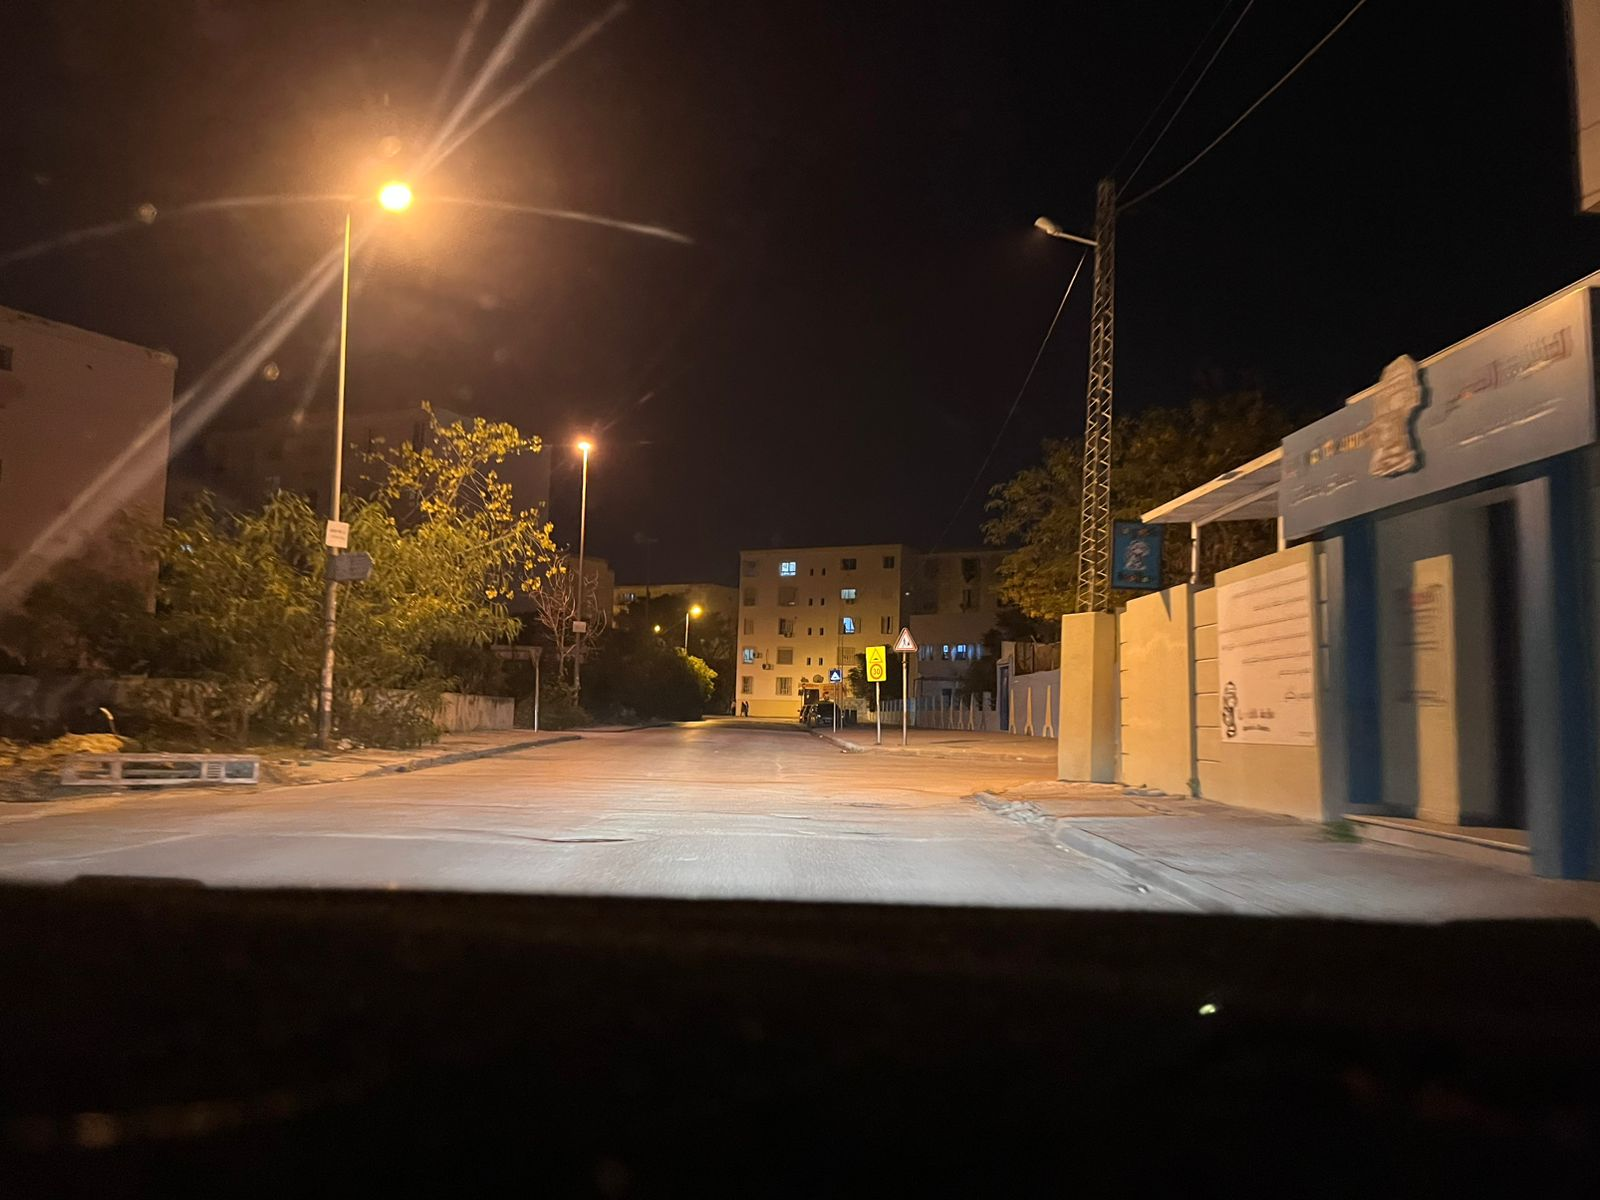SpeedLimit30: (866, 645, 887, 682), (866, 664, 866, 664)
